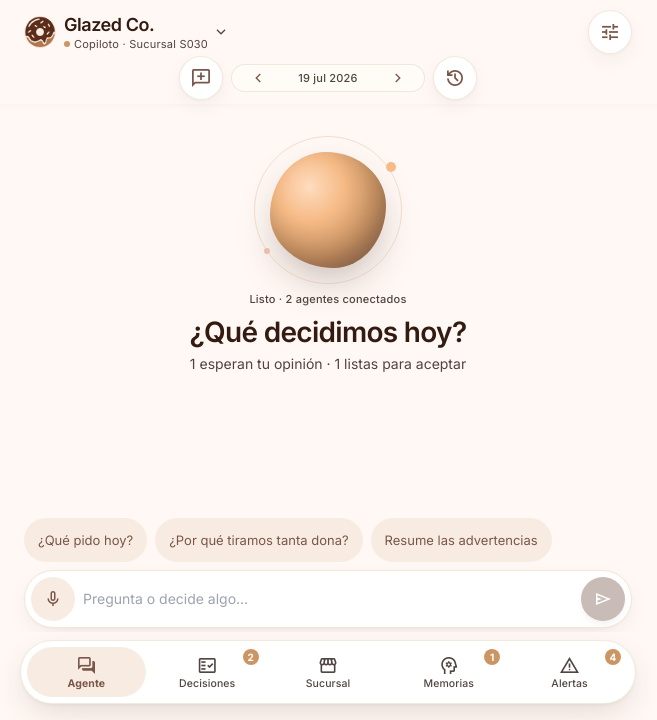
Test: Copiloto (/copiloto) matches Copiloto.dc.html › Decisiones: the resolved line adds the decisions accepted by the manager
The width and height of the screenshot is (657, 720).
Click the button "Decisiones 2".
click(207, 672)  # box [148,647,267,697]
(page scrolled)
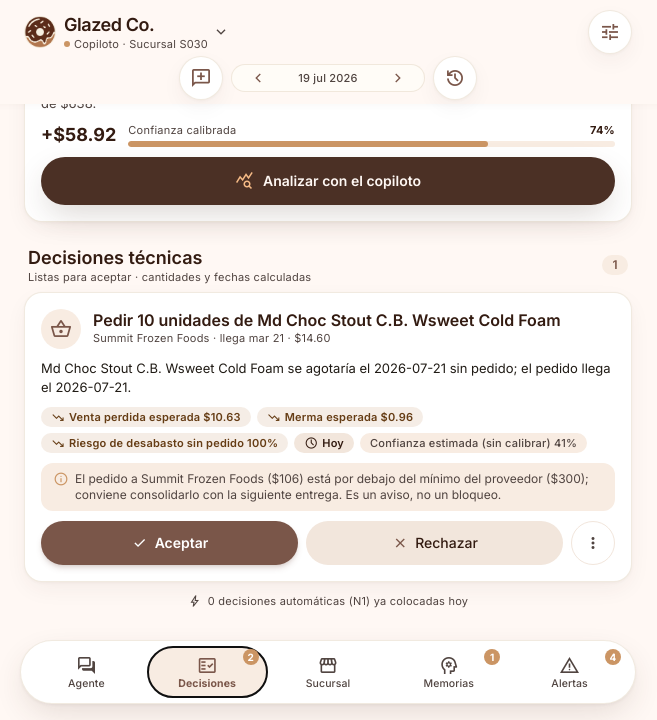
Click the button "Aceptar".
click(170, 543)  # box [41,521,298,565]
(page scrolled)
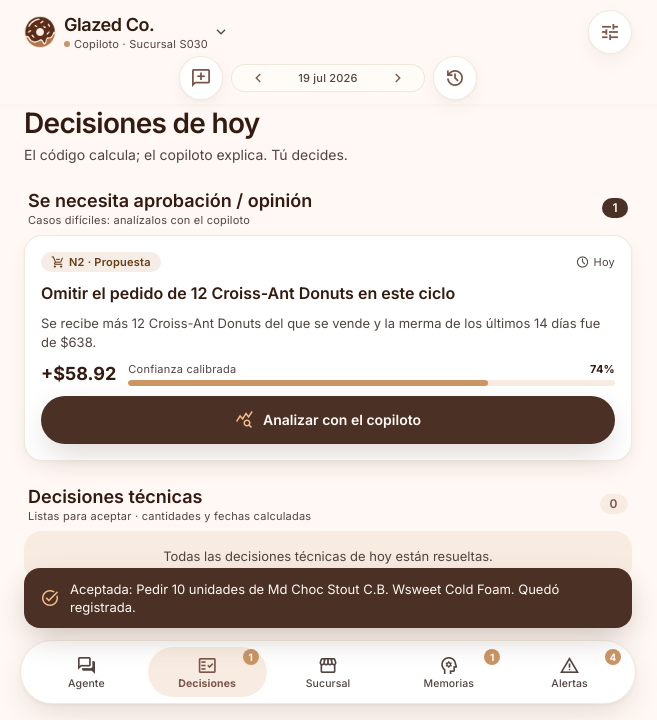
Expected: the text "0 decisiones automáticas (N1) ya colocadas hoy · 1 aceptada por ti" is shown, [138,593,518,609]
